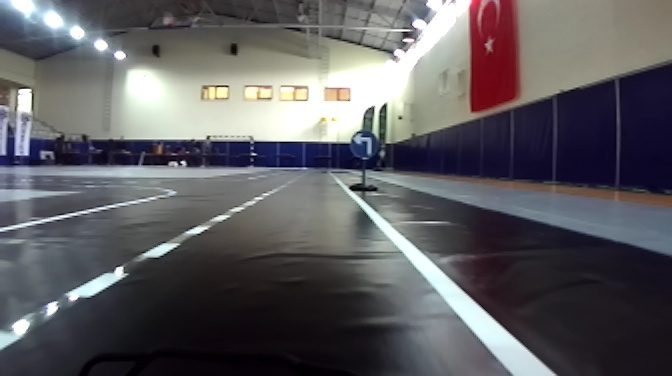sola_donus: (351, 125, 379, 163)
